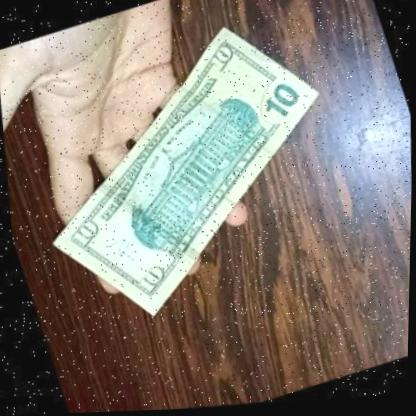ten-back: (0, 1, 379, 345)
